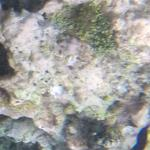dead: (11, 18, 119, 125)
